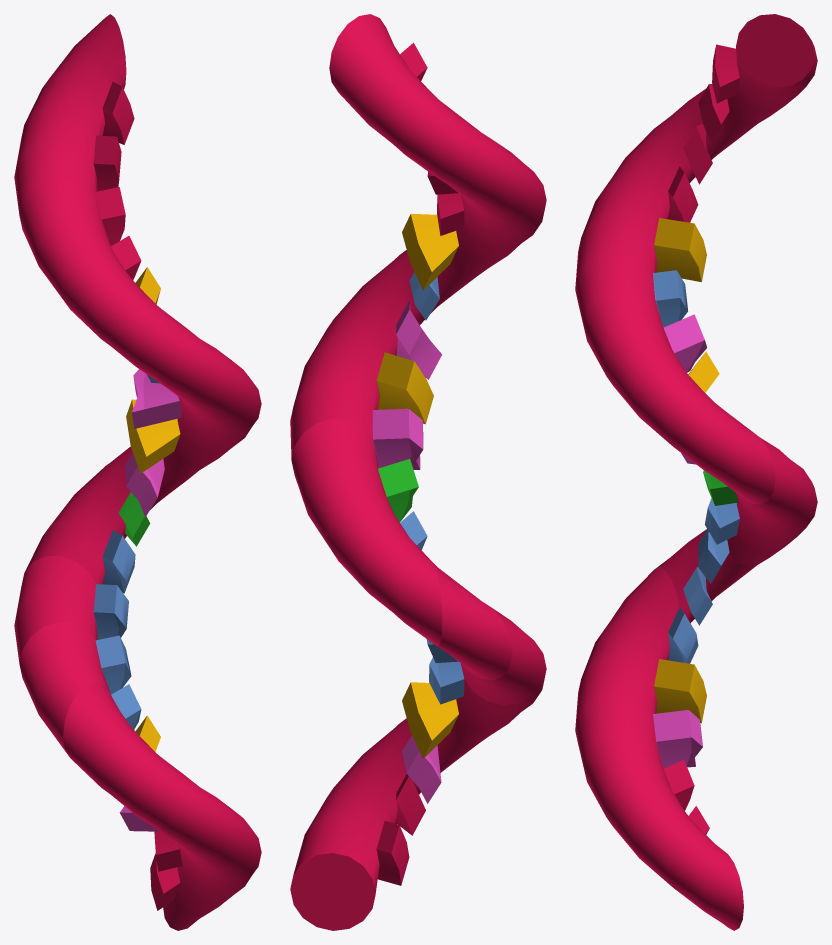
File: mRNA_Vaccines_onepiece.fbx
3 renders of one model, left to right at view 1: azimuth 30°, elevation 25°; view 2: azimuth 150°, elevation 25°; view 3: azimuth 270°, elevation 25°, orthographic. The views are drawn at different scales.
Visible parts, largest first — view 1: mRNAbase; view 2: mRNAbase; view 3: mRNAbase.
Boxes of the visible parts, box(x1,y1,x2,y2) form: mRNAbase: box(14, 14, 261, 930); mRNAbase: box(290, 14, 546, 930); mRNAbase: box(575, 14, 817, 930).
Bounding box in the file's own units: 2.99 × 12.11 × 2.99.
1 material, 1 textured.
